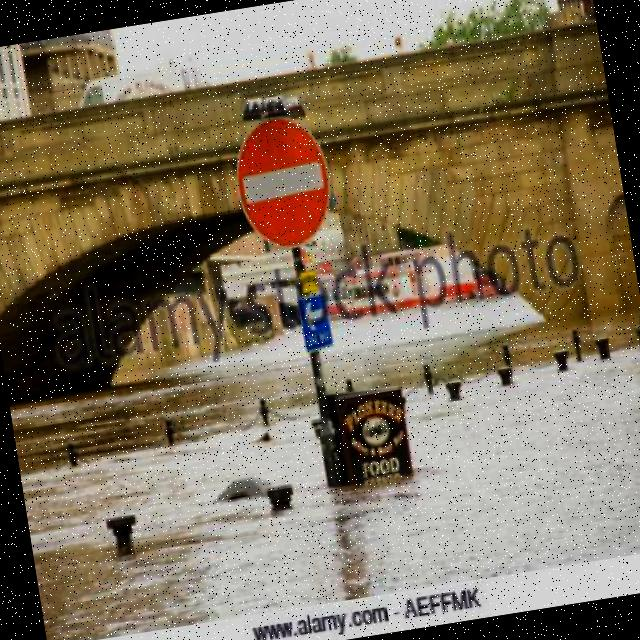Zakaz wjazdu: (227, 109, 343, 254)
